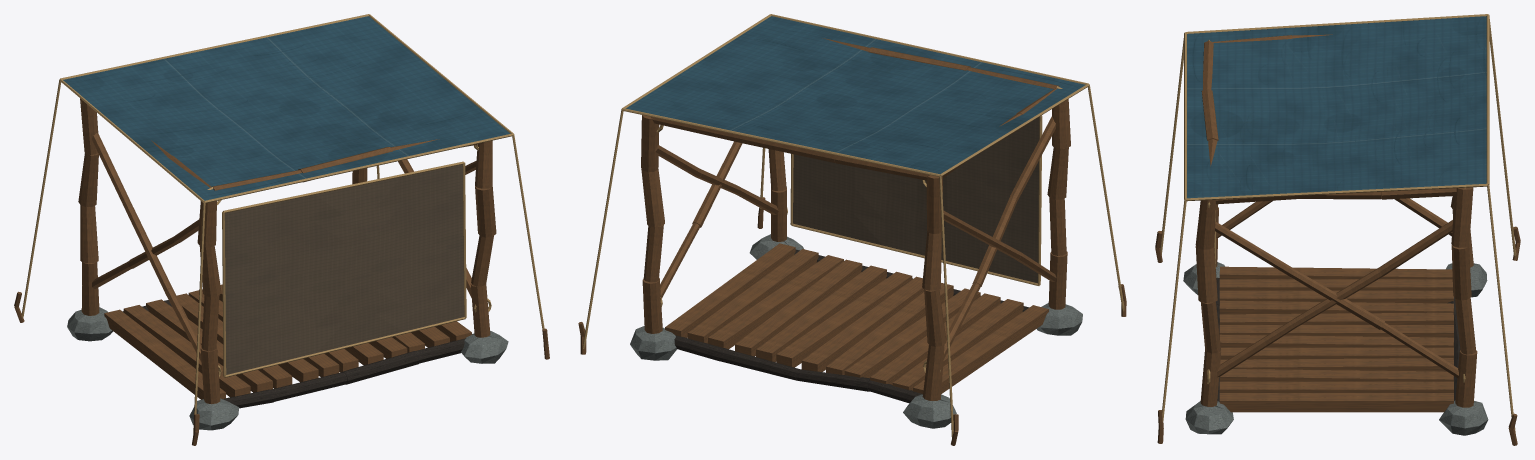
The model's file is cs-003_shelter_covered_usable.obj.
3 renders of one model, left to right at view 1: azimuth 30°, elevation 25°; view 2: azimuth 150°, elevation 25°; view 3: azimuth 270°, elevation 25°, orthographic. The views are drawn at different scales.
Visible parts, largest first — view 1: cs-003_shelter_covered_usable; view 2: cs-003_shelter_covered_usable; view 3: cs-003_shelter_covered_usable.
Boxes of the visible parts, x1,y1,x2,y2 form: cs-003_shelter_covered_usable: (14, 14, 549, 445); cs-003_shelter_covered_usable: (578, 14, 1126, 445); cs-003_shelter_covered_usable: (1155, 14, 1520, 445).
Size of the model in its own units: 2.49 by 1.65 by 2.03.
6 materials, 6 textured.
